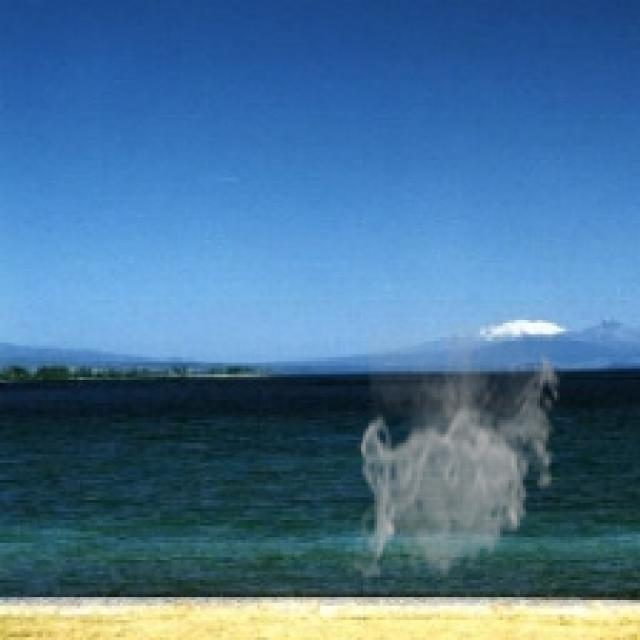smoke: (354, 323, 566, 586)
